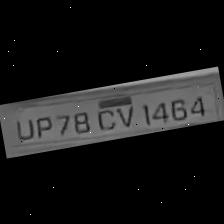1: (136, 96, 155, 126)
4: (184, 91, 208, 118), (149, 98, 168, 124)
6: (164, 94, 187, 122)
7: (111, 99, 138, 129), (50, 109, 72, 137)
8: (66, 106, 94, 135)
C: (92, 102, 118, 132)
P: (29, 111, 56, 140)
U: (8, 113, 35, 142)
